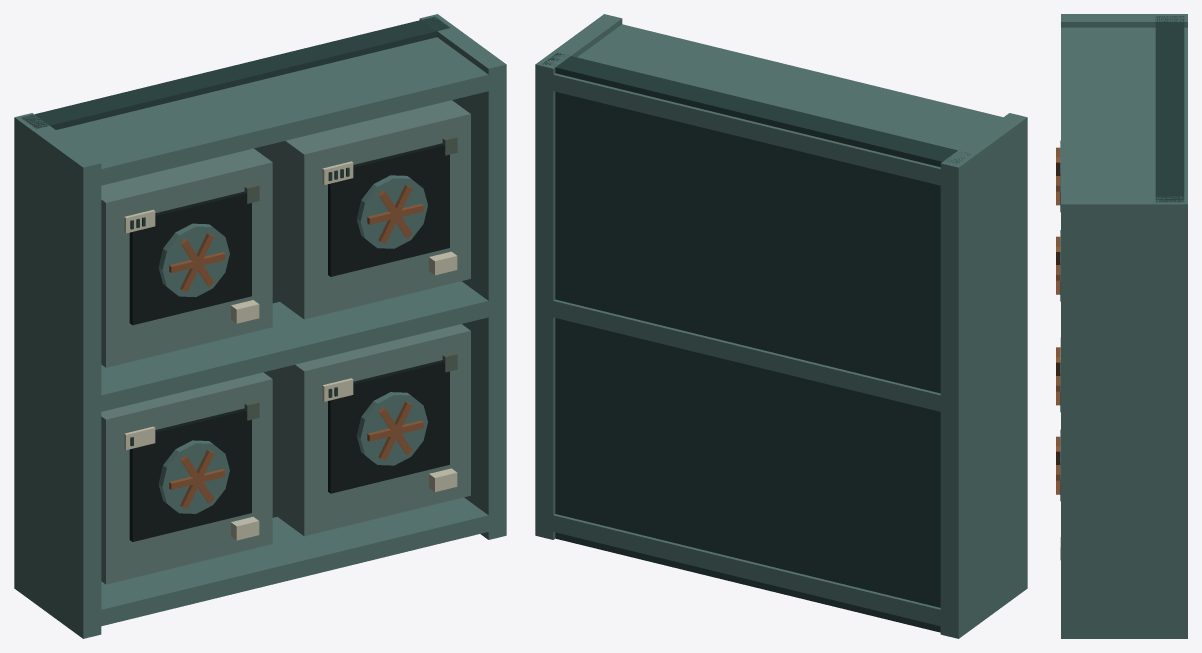
The model's file is machine_rack.glb.
3 views of the same model, side by side, from view 1: azimuth 30°, elevation 25°; view 2: azimuth 150°, elevation 25°; view 3: azimuth 270°, elevation 25° (orthographic). The views are drawn at different scales.
Parts seen in each view (by area): view 1: rack_side_-0.9, rack_rail_1.94, unit_04_housing, unit_02_housing, unit_03_housing, rack_rail_0.98, rack_side_0.9, rack_rail_0.07, unit_01_housing, rack_back, unit_01_recess, unit_03_recess (+6 smaller); view 2: rack_back, rack_side_-0.9, rack_rail_1.94, rack_side_0.9, rack_rail_0.98, rack_rail_0.07; view 3: rack_side_0.9, rack_rail_1.94, rack_back, rack_side_-0.9.
Boxes of the visible parts, bbox=[...] form: rack_side_-0.9: bbox=[14, 113, 101, 638]; rack_rail_1.94: bbox=[56, 37, 501, 188]; unit_04_housing: bbox=[259, 100, 470, 319]; unit_02_housing: bbox=[264, 324, 470, 536]; unit_03_housing: bbox=[101, 148, 272, 367]; rack_rail_0.98: bbox=[88, 281, 501, 412]; rack_side_0.9: bbox=[419, 14, 506, 539]; rack_rail_0.07: bbox=[87, 497, 501, 626]; unit_01_housing: bbox=[101, 372, 272, 584]; rack_back: bbox=[21, 16, 449, 517]; unit_01_recess: bbox=[129, 408, 251, 541]; unit_03_recess: bbox=[129, 191, 251, 325]; rack_back: bbox=[542, 52, 970, 632]; rack_side_-0.9: bbox=[940, 113, 1027, 638]; rack_rail_1.94: bbox=[540, 24, 1002, 185]; rack_side_0.9: bbox=[535, 14, 622, 539]; rack_rail_0.98: bbox=[540, 298, 954, 411]; rack_rail_0.07: bbox=[540, 513, 953, 626]; rack_side_0.9: bbox=[1061, 196, 1187, 638]; rack_rail_1.94: bbox=[1061, 27, 1187, 196]; rack_back: bbox=[1155, 16, 1184, 202]; rack_side_-0.9: bbox=[1061, 14, 1187, 27].
Size of the model in its own units: 1.88 by 2 by 0.55.
